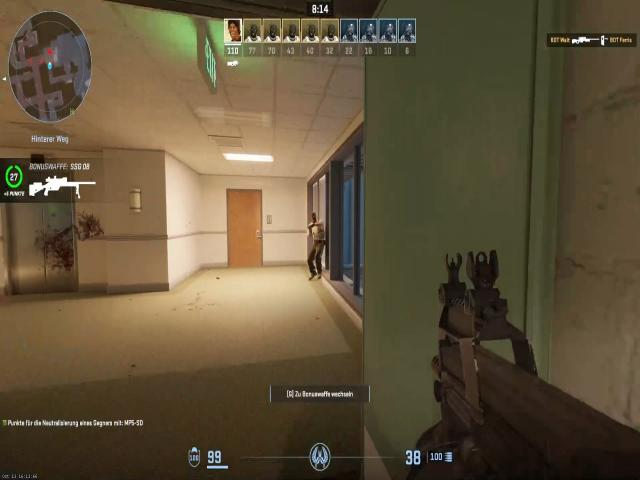T: (309, 208, 324, 273)
T-Head: (310, 210, 321, 227)
